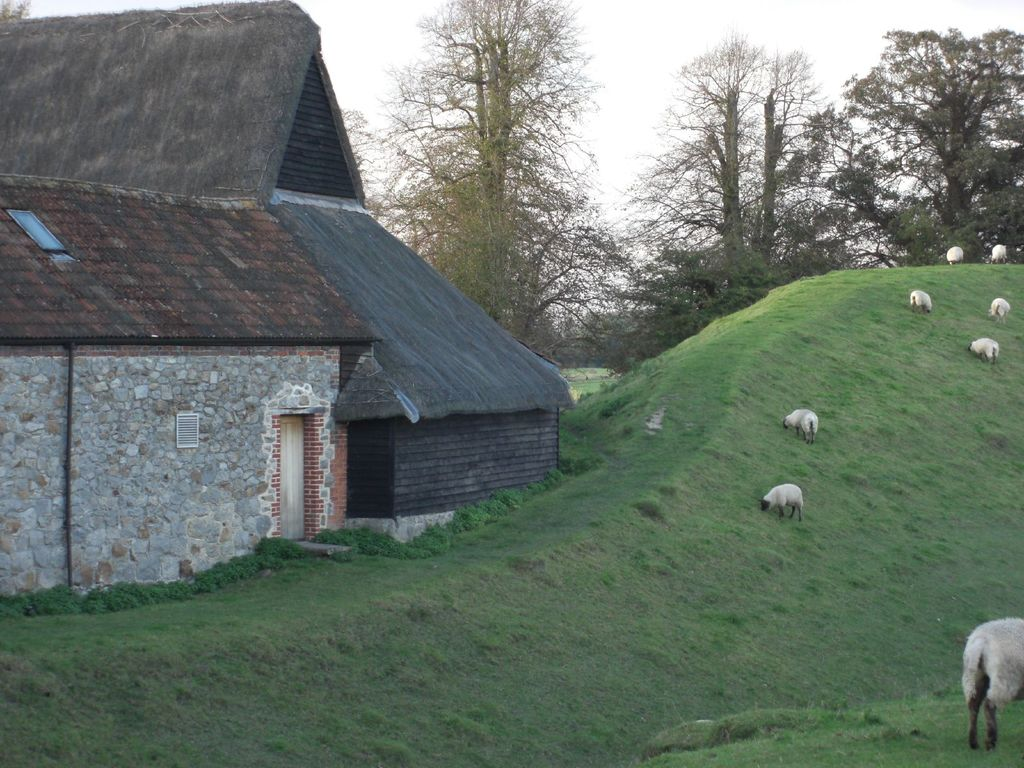sheep: (756, 480, 803, 520), (781, 410, 816, 441), (971, 339, 999, 360), (986, 296, 1008, 317), (906, 292, 930, 311), (990, 241, 1007, 263), (946, 248, 963, 266)
